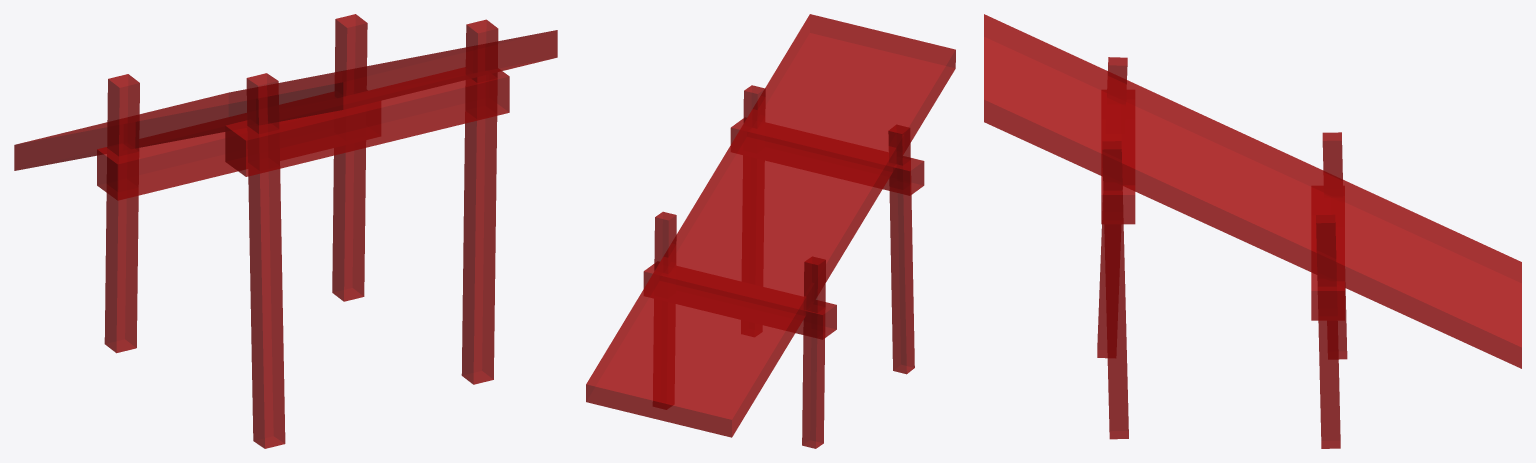
Rendered from SM_Prop_Jetty_Stairs_01_Collision.fbx.
The picture shows the model from 3 angles, left to right: view 1: azimuth 30°, elevation 25°; view 2: azimuth 150°, elevation 25°; view 3: azimuth 270°, elevation 25°; orthographic projection. The views are drawn at different scales.
Visible parts, largest first — view 1: SM_Prop_Jetty_Stairs_01_Collision; view 2: SM_Prop_Jetty_Stairs_01_Collision; view 3: SM_Prop_Jetty_Stairs_01_Collision.
Part boxes in pixels (x1=…): SM_Prop_Jetty_Stairs_01_Collision: x1=14, y1=14, x2=557, y2=448; SM_Prop_Jetty_Stairs_01_Collision: x1=586, y1=14, x2=955, y2=448; SM_Prop_Jetty_Stairs_01_Collision: x1=984, y1=14, x2=1521, y2=448.
Size of the model in its own units: 206 by 314 by 445.
